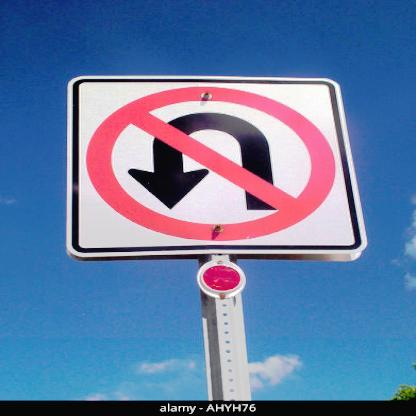No U-turn: (72, 78, 359, 254)
